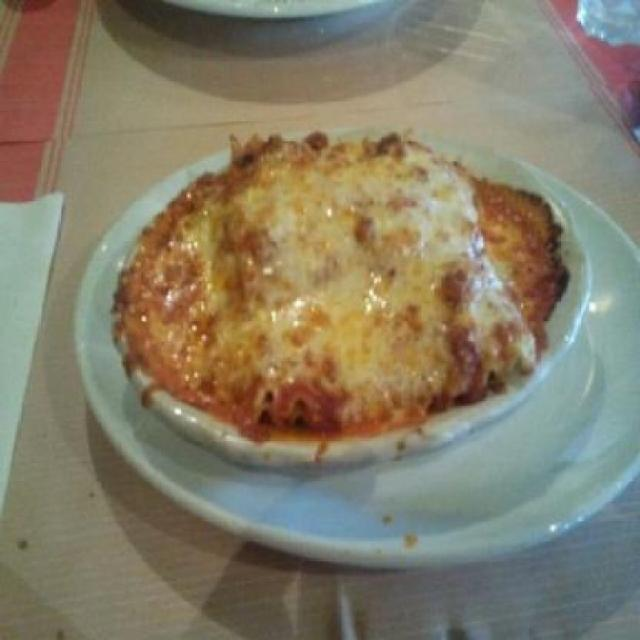Lasagna: (133, 142, 570, 456)
